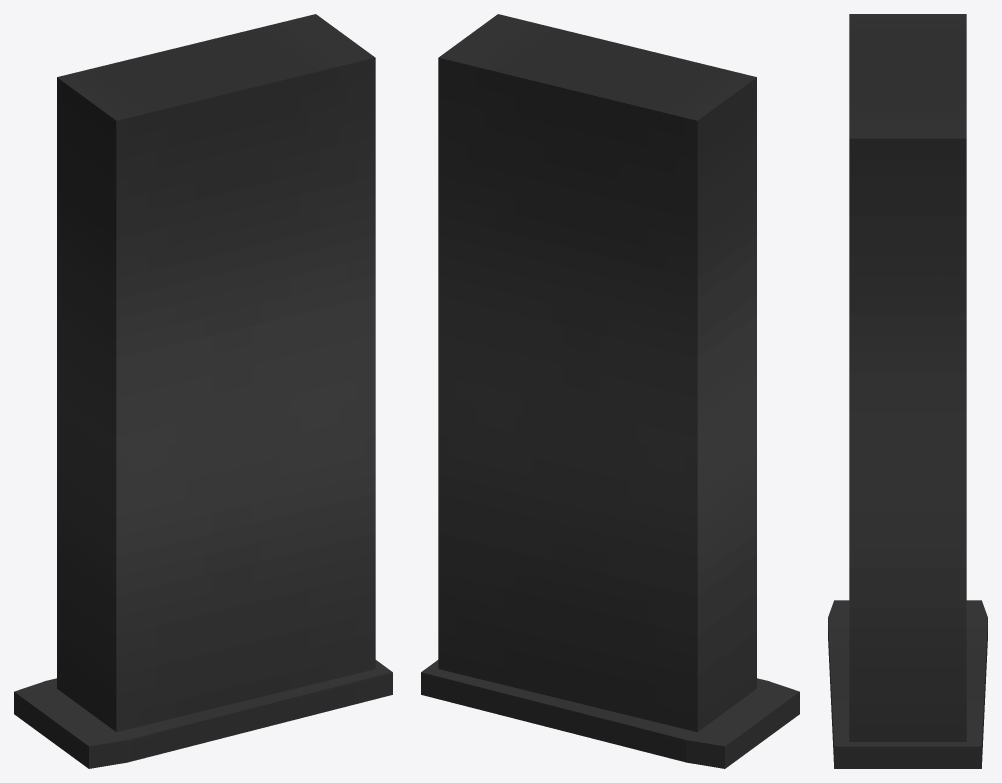
The model's file is Mag.obj.
The picture shows the model from 3 angles, left to right: view 1: azimuth 30°, elevation 25°; view 2: azimuth 150°, elevation 25°; view 3: azimuth 270°, elevation 25°; orthographic projection.
Visible parts, largest first — view 1: Mag1; view 2: Mag1; view 3: Mag1.
Part boxes in pixels (x1,y1,x2,y2): Mag1: (14, 14, 392, 768); Mag1: (421, 14, 799, 768); Mag1: (828, 14, 987, 768).
Bounding box in the file's own units: 0.1363 × 0.2716 × 0.0629.
1 material, 1 textured.
